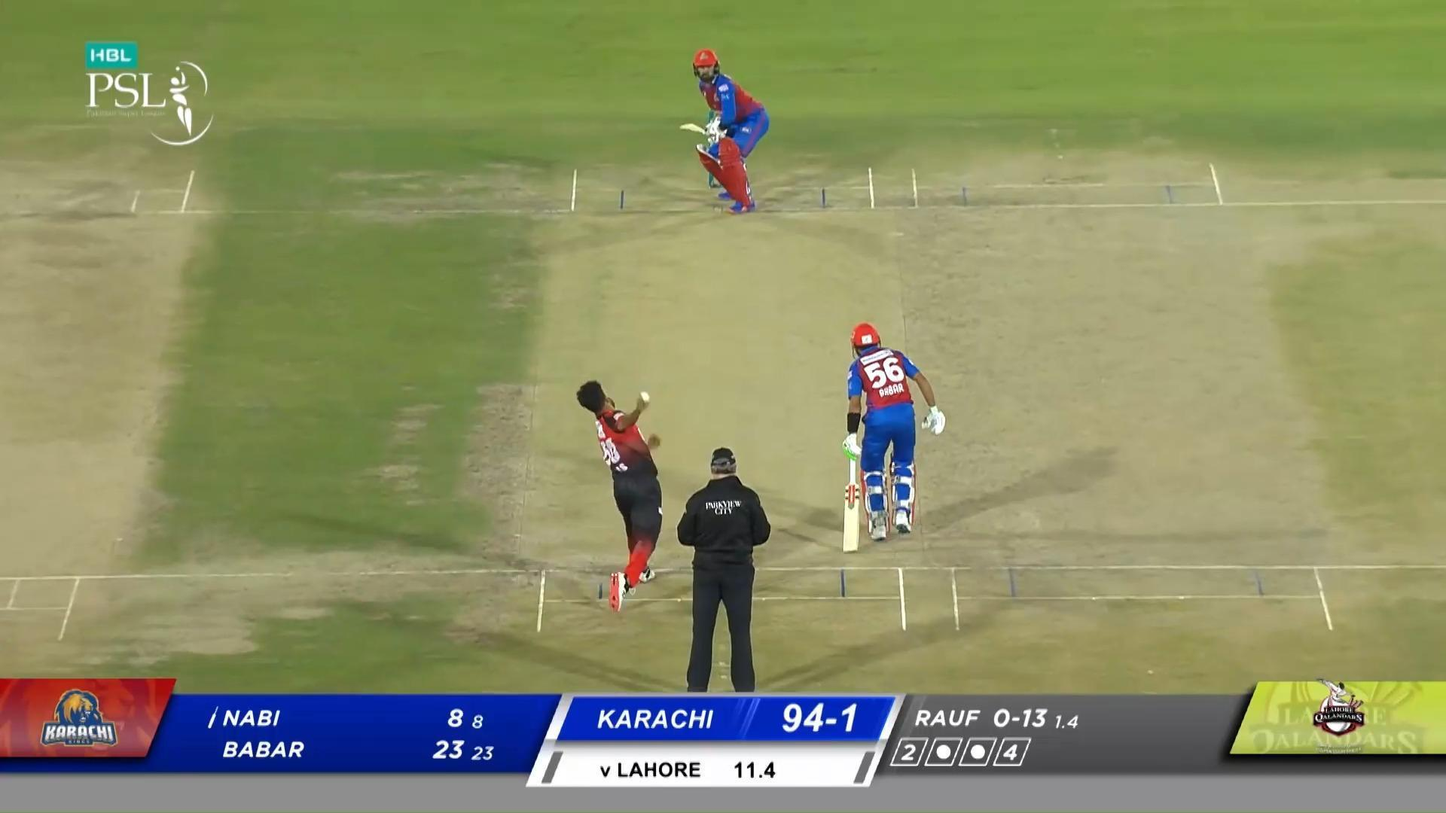BM 1: (679, 49, 770, 213)
BO: (576, 377, 665, 614)
